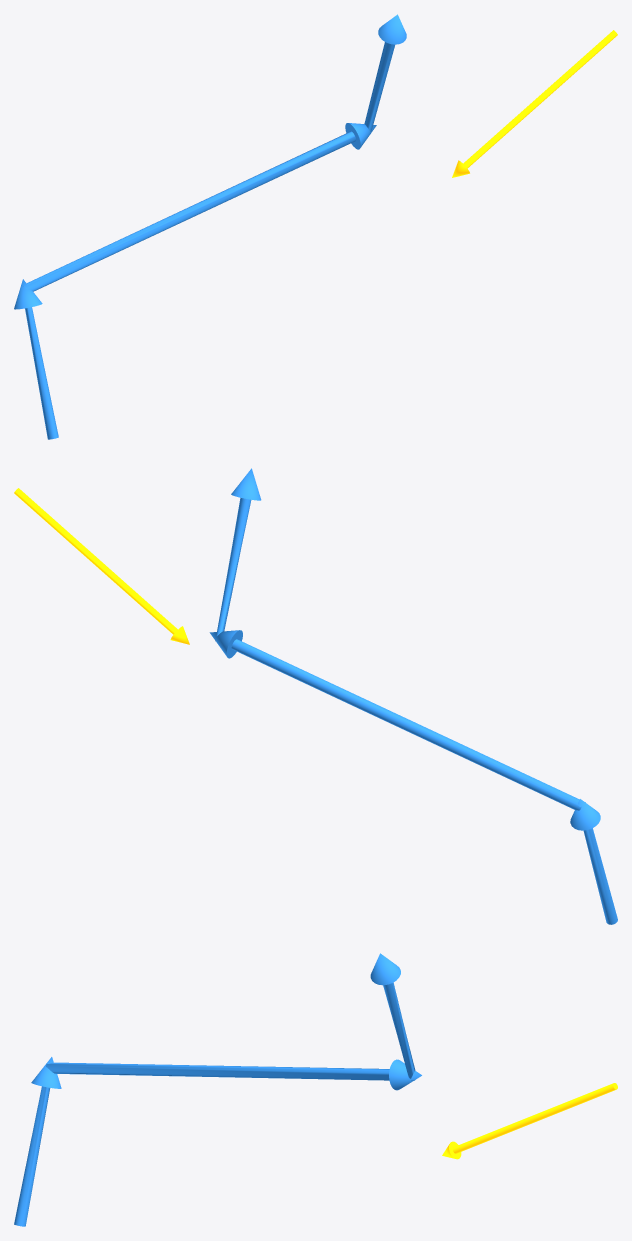
File: uv_disinfection_system_flow.glb
The picture shows the model from 3 angles, top to bottom: view 1: azimuth 30°, elevation 25°; view 2: azimuth 150°, elevation 25°; view 3: azimuth 330°, elevation 25°; orthographic projection. The views are drawn at different scales.
Parts seen in each view (by area): view 1: water, power; view 2: water, power; view 3: water, power.
Boxes of the visible parts, box(x1,y1,x2,y2) form: water: box(14, 14, 406, 439); power: box(452, 30, 617, 177); water: box(209, 468, 617, 924); power: box(14, 488, 189, 644); water: box(14, 953, 421, 1226); power: box(442, 1083, 617, 1159).
Size of the model in its own units: 2.36 by 1.34 by 0.2832.
